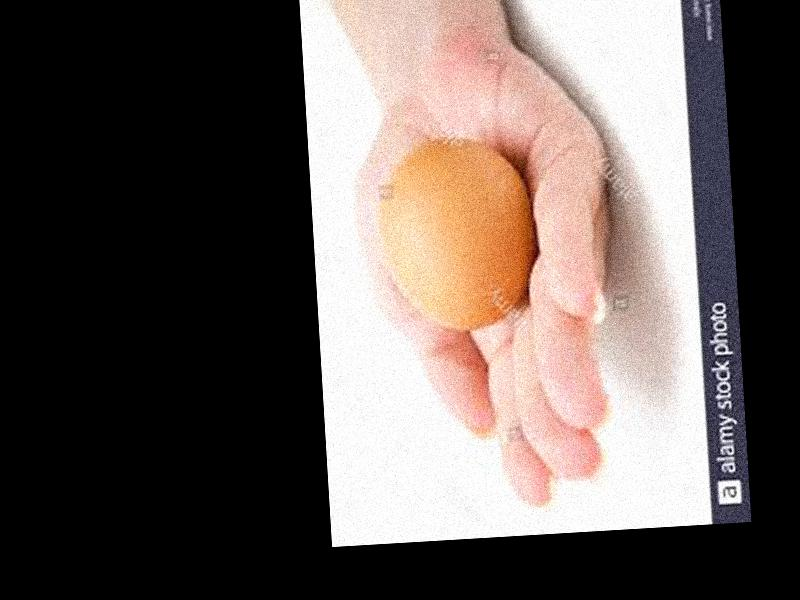Eggs: (371, 132, 538, 333)
